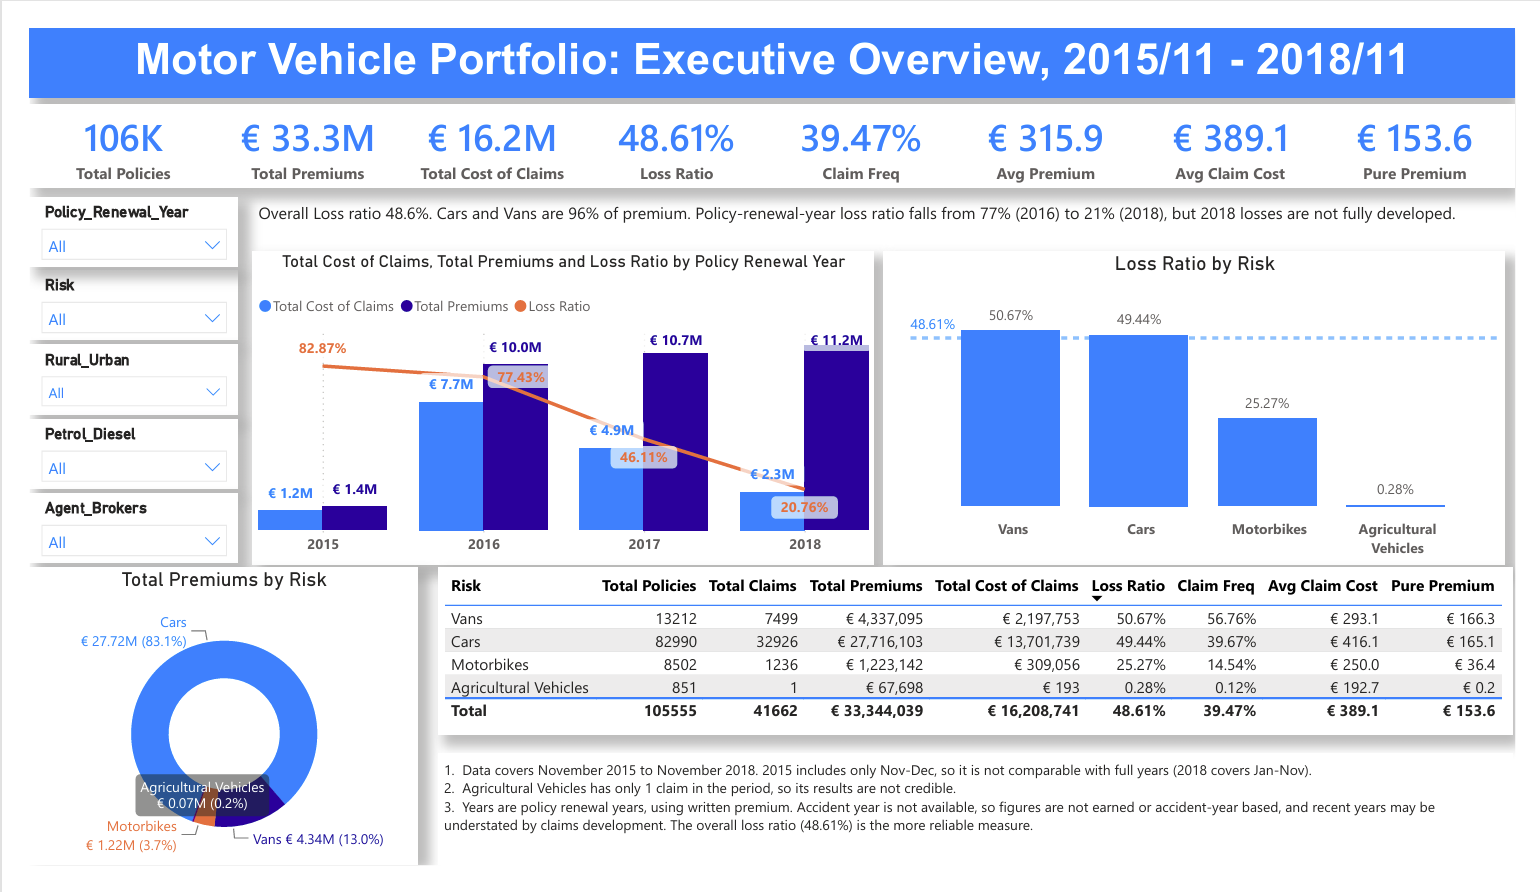

What the dashboard file says about the page in this screenshot:
{"tool":"powerbi","page":{"name":"1. Executive Overview","canvas":[1280,720],"ordinal":0},"visuals":[{"type":"textbox","box":[0,0,1280,60],"z":0},{"type":"cardVisual","fields":{"Data":["Motor vehicle insurance data.Total Policies","Motor vehicle insurance data.Total Premiums","Motor vehicle insurance data.Total Cost of Claims","Motor vehicle insurance data.Loss Ratio","Motor vehicle insurance data.Claim Freq","Motor vehicle insurance data.Avg Premium","Motor vehicle insurance data.Avg Claim Cost","Motor vehicle insurance data.Pure Premium"]},"box":[0,65,1280,72],"z":1000},{"type":"slicer","fields":{"Values":["Motor vehicle insurance data.Risk"]},"box":[0,208,180,60],"z":2000},{"type":"slicer","fields":{"Values":["Motor vehicle insurance data.Rural_Urban"]},"box":[0,272,180,61],"z":3000},{"type":"slicer","fields":{"Values":["Motor vehicle insurance data.Petrol_Diesel"]},"box":[0,336,180,60],"z":4000},{"type":"slicer","fields":{"Values":["Motor vehicle insurance data.Agent_Brokers"]},"box":[0,400,180,60],"z":5000},{"type":"slicer","fields":{"Values":["Motor vehicle insurance data.Calendar Year"]},"box":[0,145,180,60],"z":6000},{"type":"lineClusteredColumnComboChart","title":"Total Cost of Claims, Total Premiums and Loss Ratio by Policy Renewal Year","fields":{"Category":["Motor vehicle insurance data.Calendar Year"],"Y":["Motor vehicle insurance data.Total Cost of Claims","Motor vehicle insurance data.Total Premiums"],"Y2":["Motor vehicle insurance data.Loss Ratio"]},"box":[192,192,536,270],"z":7000},{"type":"columnChart","fields":{"Category":["Motor vehicle insurance data.Risk"],"Y":["Motor vehicle insurance data.Loss Ratio"]},"box":[744,192,536,270],"z":8000},{"type":"donutChart","fields":{"Category":["Motor vehicle insurance data.Risk"],"Y":["Motor vehicle insurance data.Total Premiums"]},"box":[944,468,335,252],"z":9000},{"type":"tableEx","title":"Risk Performance Table","fields":{"Values":["Motor vehicle insurance data.Risk","Motor vehicle insurance data.Total Policies","Motor vehicle insurance data.Total Claims","Motor vehicle insurance data.Total Premiums","Motor vehicle insurance data.Total Cost of Claims","Motor vehicle insurance data.Loss Ratio","Motor vehicle insurance data.Claim Freq","Motor vehicle insurance data.Avg Claim Cost","Motor vehicle insurance data.Pure Premium"]},"box":[0,470,926,144],"z":10000},{"type":"textbox","box":[0,624,926,96],"z":11000},{"type":"textbox","box":[192,144,1088,32],"z":12000}]}

Visuals, with their boxes in screenshot pixels (x1, y1, x2, y2), scaled from the page's 1280x720 canvas onto the 1540x892 screenshot:
textbox: 0,0,1539,74
cardVisual - Motor vehicle insurance data.Total Policies x Motor vehicle insurance data.Total Premiums: 0,81,1539,170
slicer - Motor vehicle insurance data.Risk: 0,258,217,332
slicer - Motor vehicle insurance data.Rural_Urban: 0,337,217,413
slicer - Motor vehicle insurance data.Petrol_Diesel: 0,416,217,491
slicer - Motor vehicle insurance data.Agent_Brokers: 0,496,217,570
slicer - Motor vehicle insurance data.Calendar Year: 0,180,217,254
"Total Cost of Claims, Total Premiums and Loss Ratio by Policy Renewal Year" lineClusteredColumnComboChart: 231,238,876,572
columnChart - Motor vehicle insurance data.Risk x Motor vehicle insurance data.Loss Ratio: 895,238,1539,572
donutChart - Motor vehicle insurance data.Risk x Motor vehicle insurance data.Total Premiums: 1136,580,1539,891
"Risk Performance Table" tableEx: 0,582,1114,761
textbox: 0,773,1114,891
textbox: 231,178,1539,218
